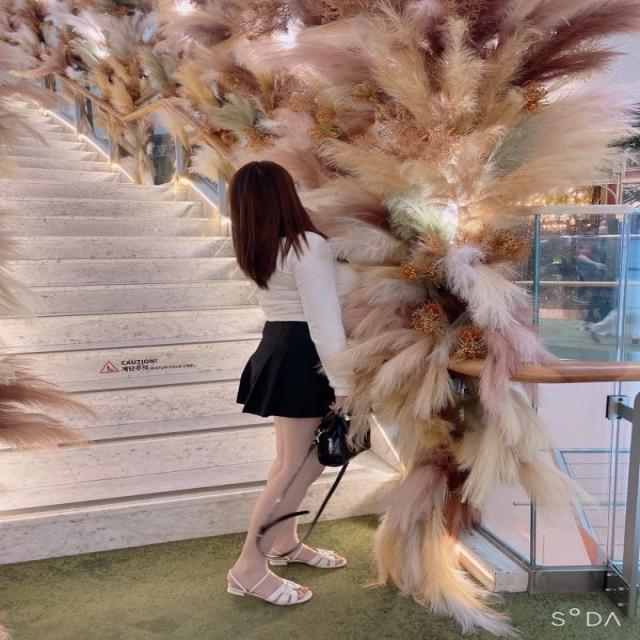longsleeve: (254, 228, 358, 399)
skirt: (237, 319, 336, 420)
